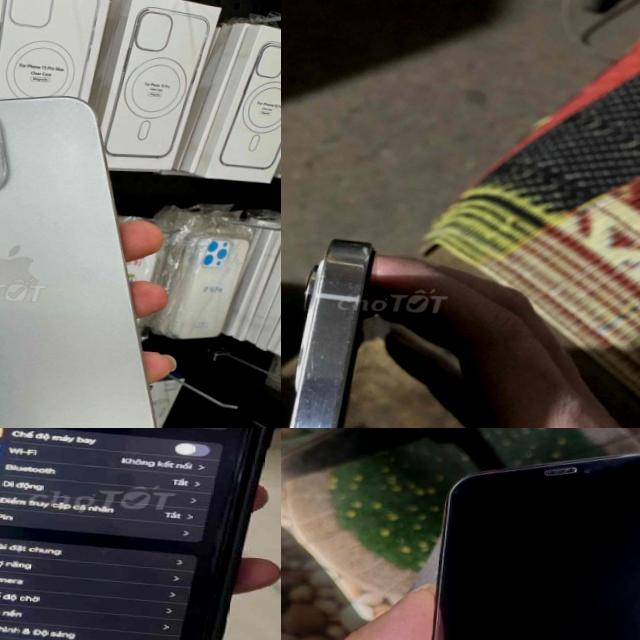gen_12_13: (281, 202, 421, 428)
gen_15: (0, 81, 182, 428)
gen_x_xs: (0, 428, 281, 640), (431, 453, 640, 640)
scratch: (586, 449, 626, 476)
